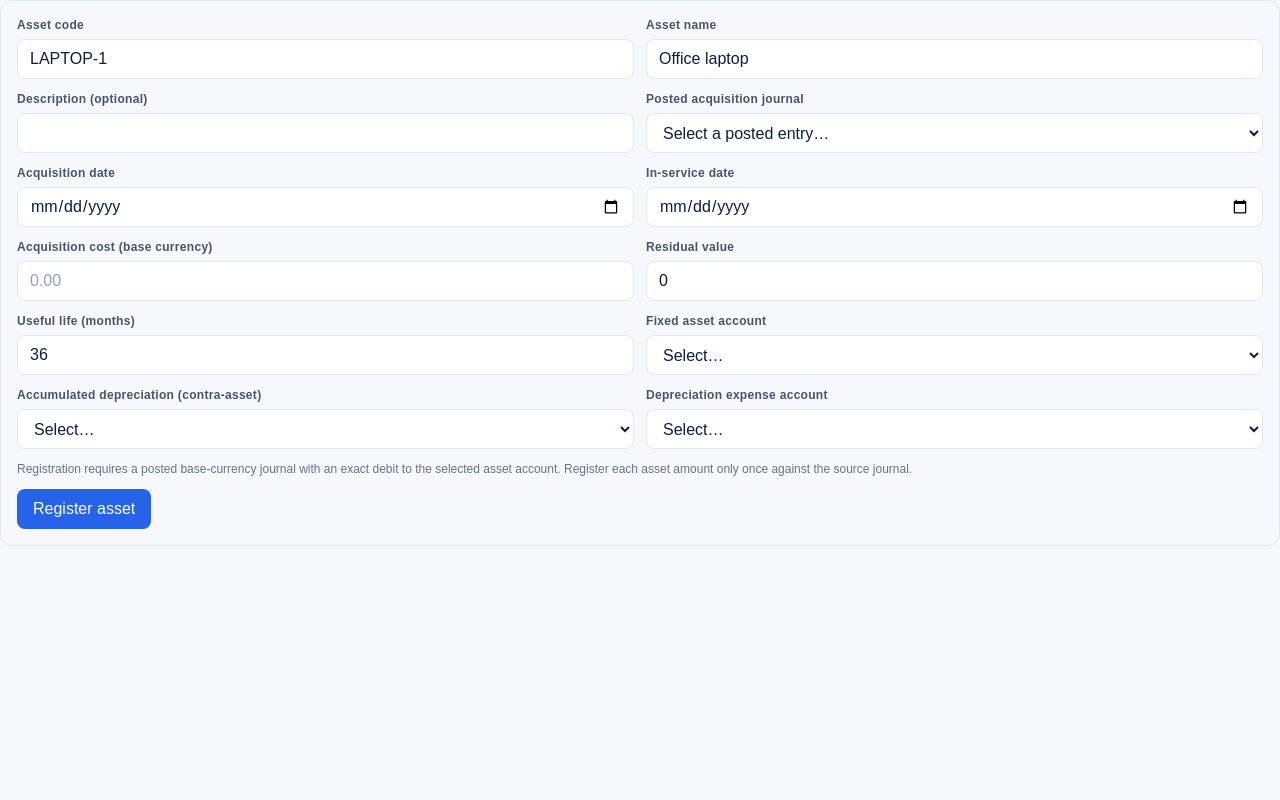
Test: fixed asset registration form › keeps the form usable when registration throws
Earlier steps of the test are not shown.
Select "JE-1 · 2026-11-01 · Asset purchase" in the dropdown labelled "Posted acquisition journal" at {"x": 954, "y": 133}, box [646,113,1263,153]
Type "2026-11-01" into the date field labelled "Acquisition date".
click(326, 207); type("2026-11-01")  # box [17,187,634,227]
Type "2026-11-02" into the date field labelled "In-service date".
click(954, 207); type("2026-11-02")  # box [646,187,1263,227]
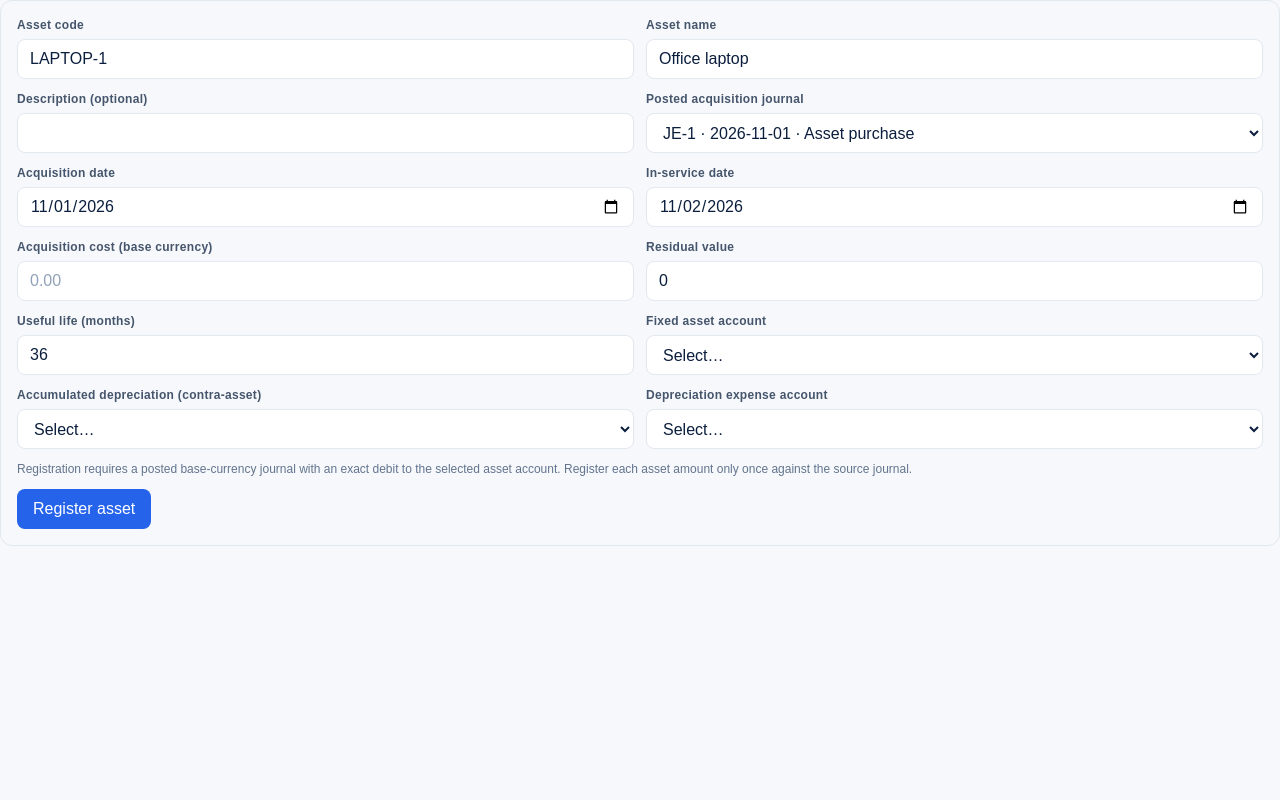
Type "1200.00" into the field labelled "Acquisition cost (base currency)".
click(326, 281); type("1200.00")  # box [17,261,634,301]
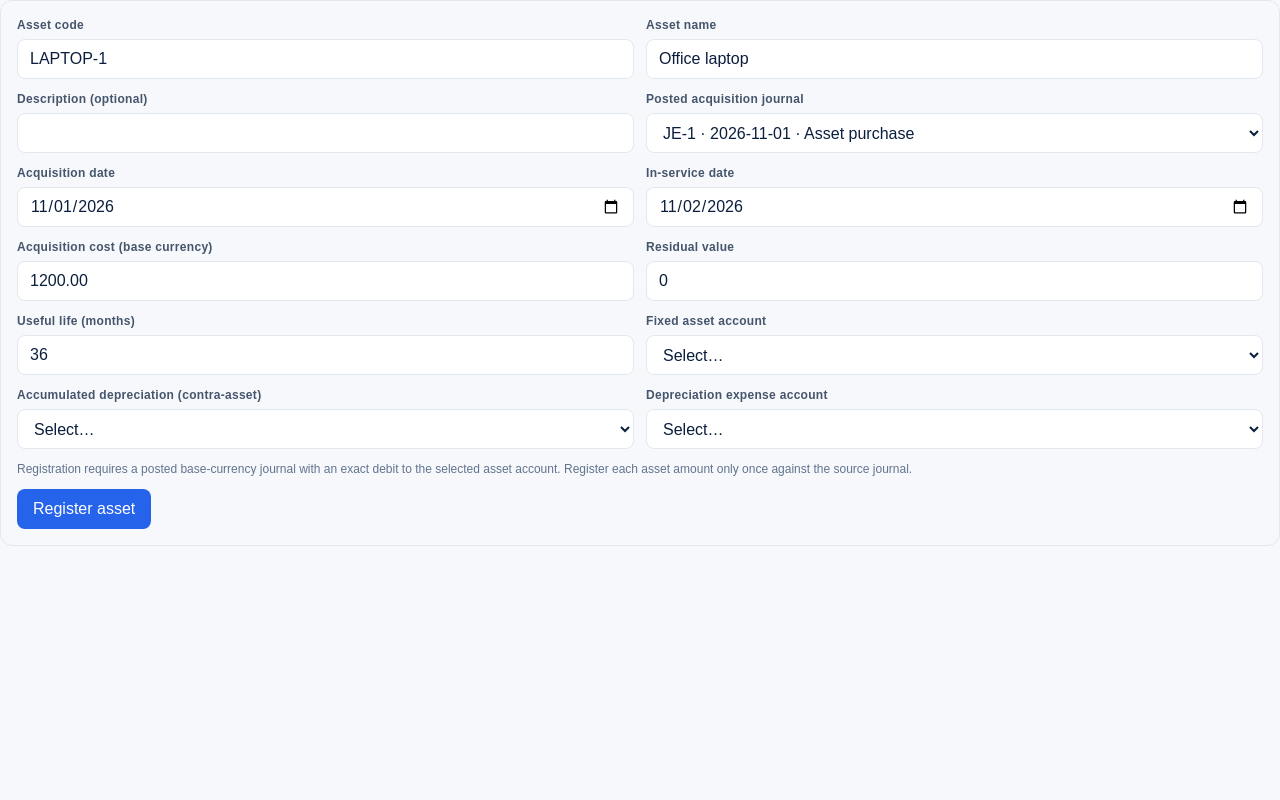
Select "1500 · Equipment" in the dropdown labelled "Fixed asset account" at {"x": 954, "y": 355}, box [646,335,1263,375]
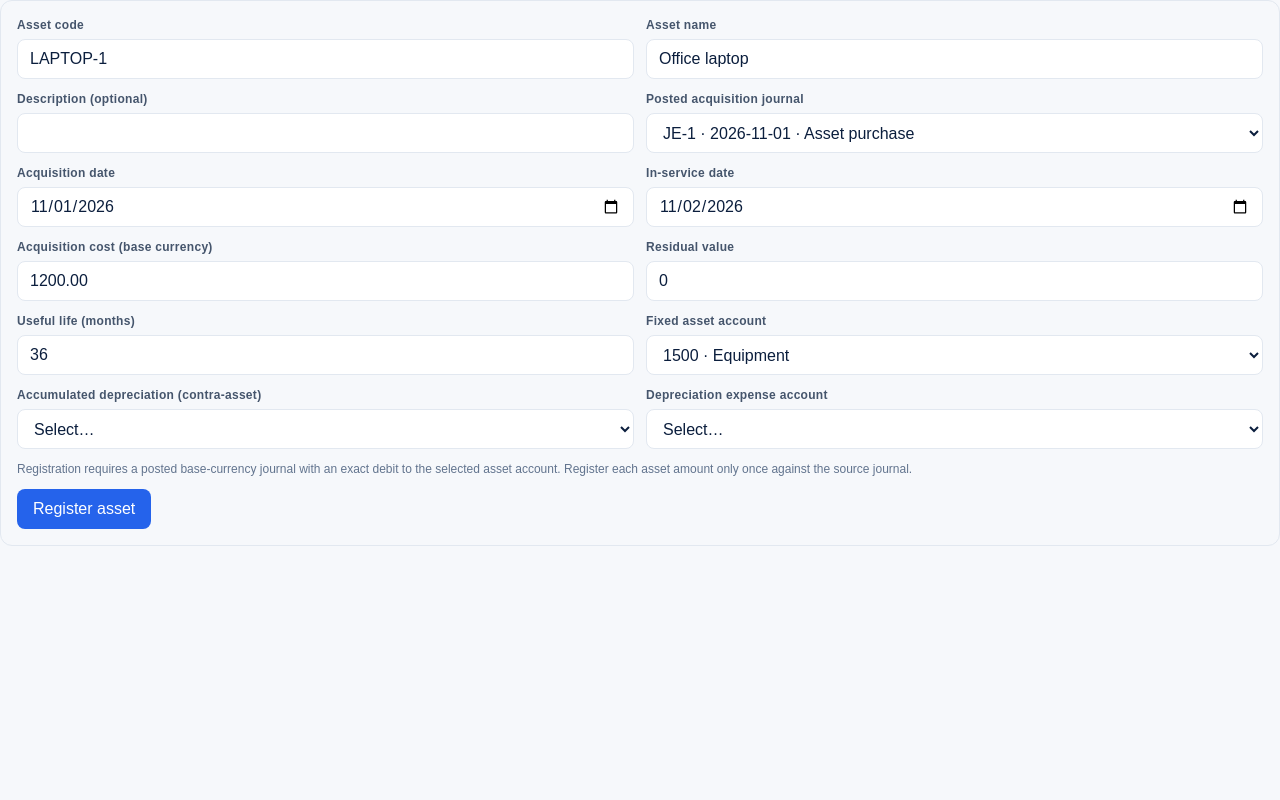
Select "1590 · Accumulated depreciation" in the dropdown labelled "Accumulated depreciation (contra-asset)" at {"x": 326, "y": 429}, box [17,409,634,449]
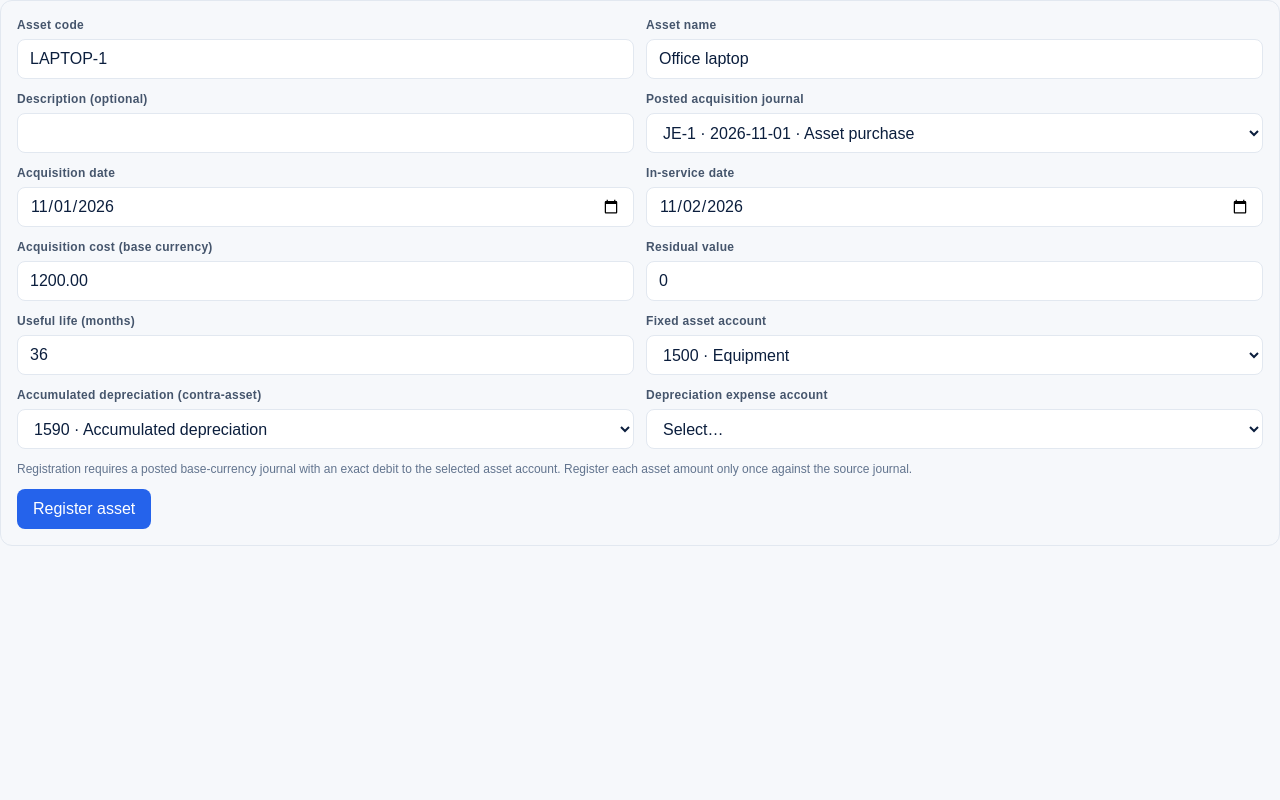
Select "5100 · Depreciation" in the dropdown labelled "Depreciation expense account" at {"x": 954, "y": 429}, box [646,409,1263,449]
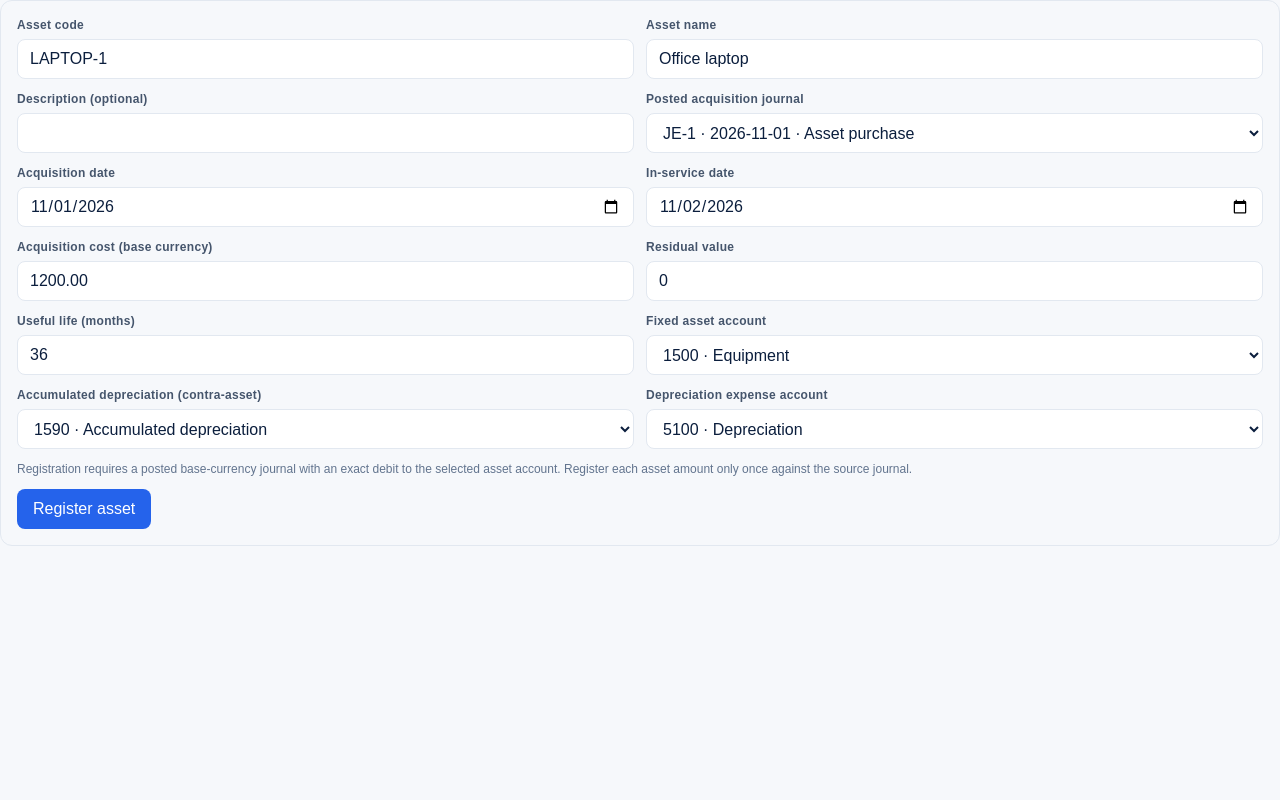
Submit the form labelled "Asset code"
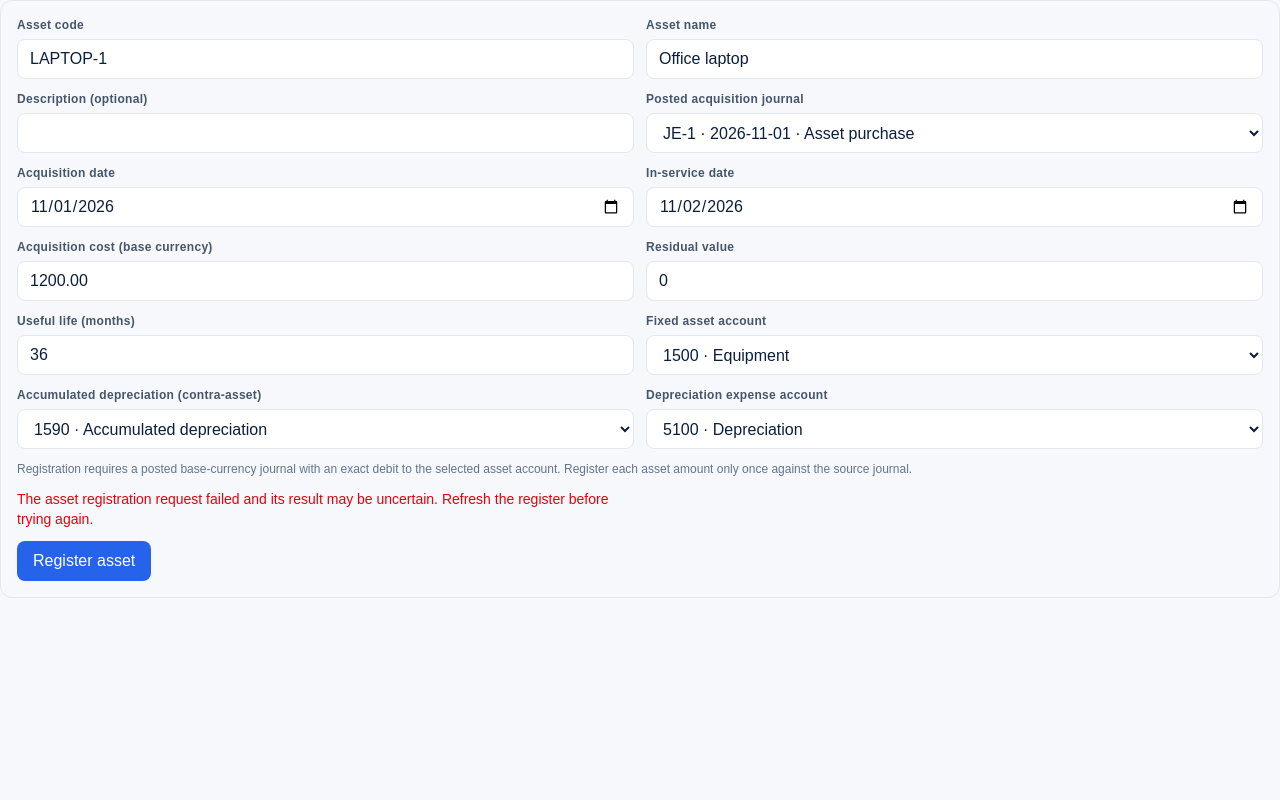
expect the button "Register asset" is enabled: met, box [17,541,151,581]
expect the message shows "request failed": met, box [17,491,608,527]
